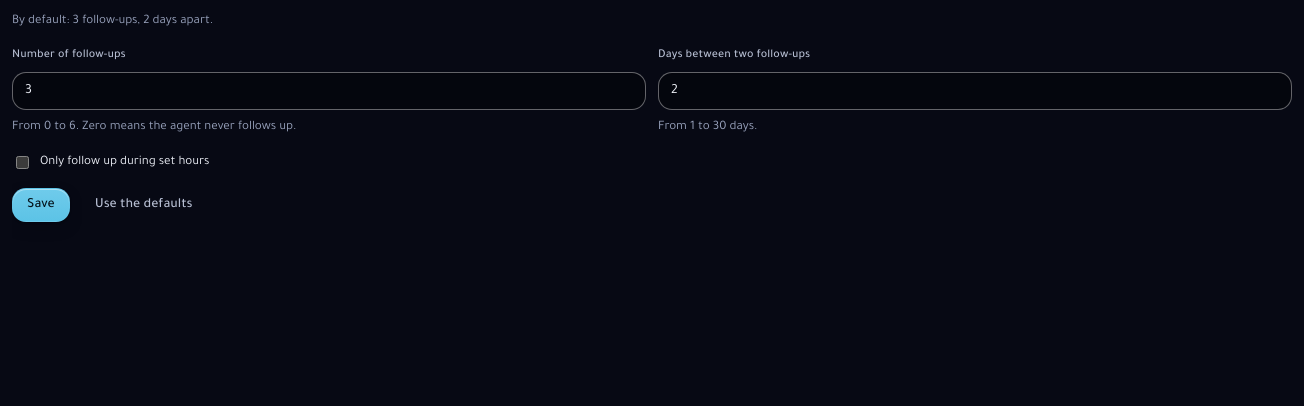
Test: follow-up settings › saves the number, the gap and the hours, with the version it was read on
Replace the text in the number field labelled "Number of follow-ups" with "5": (329, 91) [12,72,646,110]
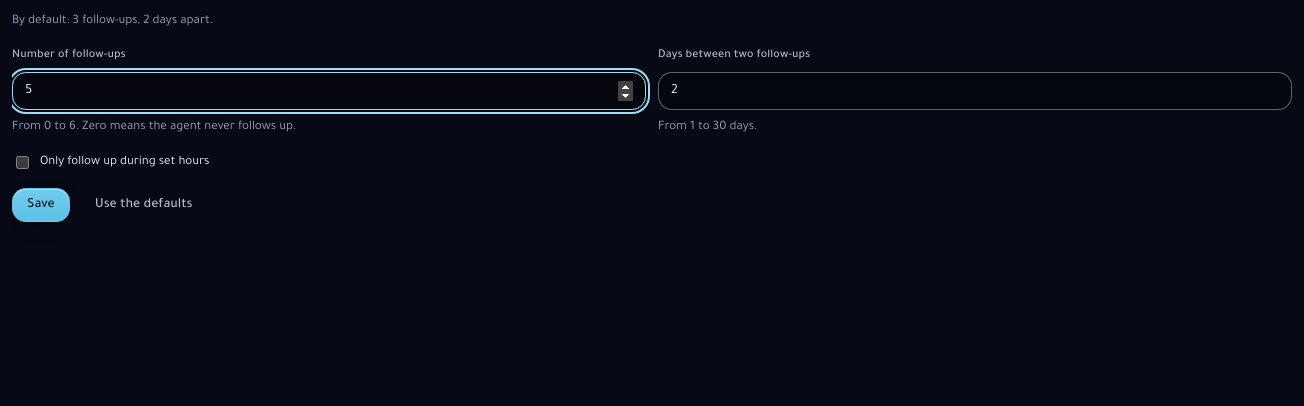
Replace the text in the number field labelled "Days between two follow-ups" with "3": (975, 91) [658,72,1292,110]
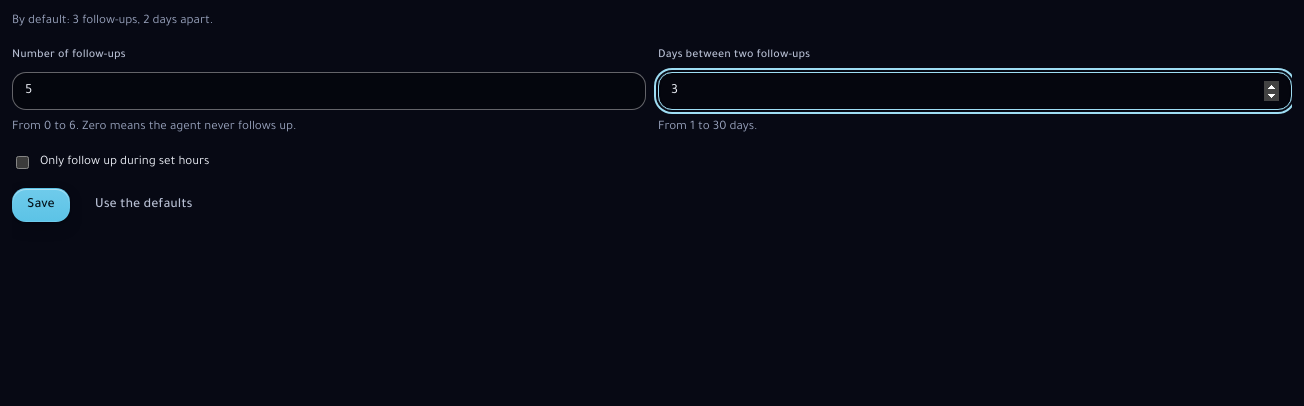
Click the checkbox labelled "Only follow up during set hours": (22, 162) [16,156,29,169]
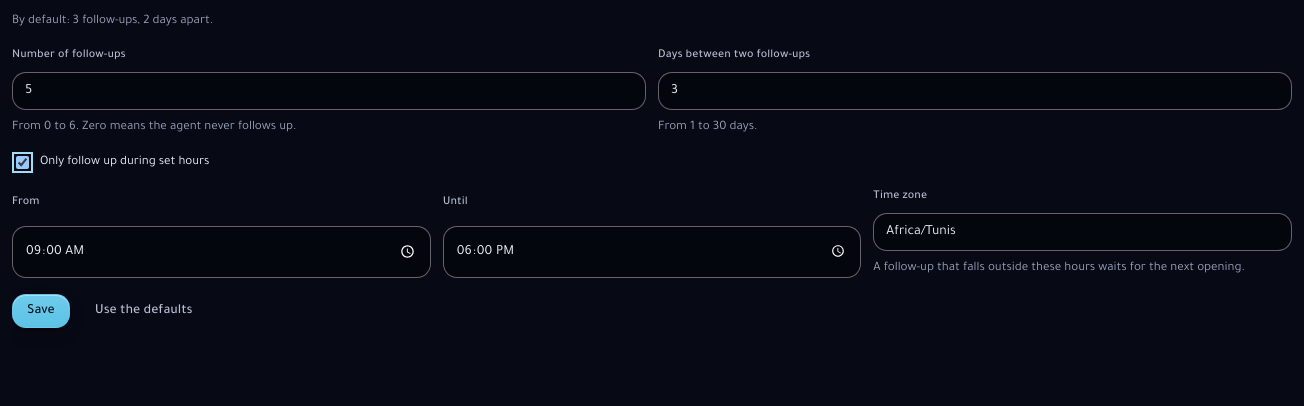
Clear the time field labelled "Until": (652, 252) [443,226,861,278]
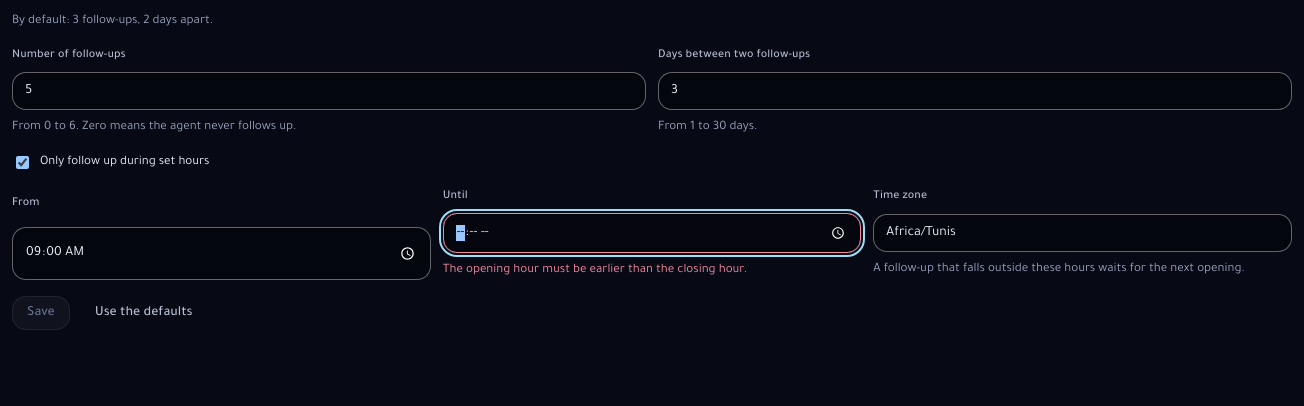
In the time field labelled "Until": (652, 233) [443,213,861,253], type "17:30"
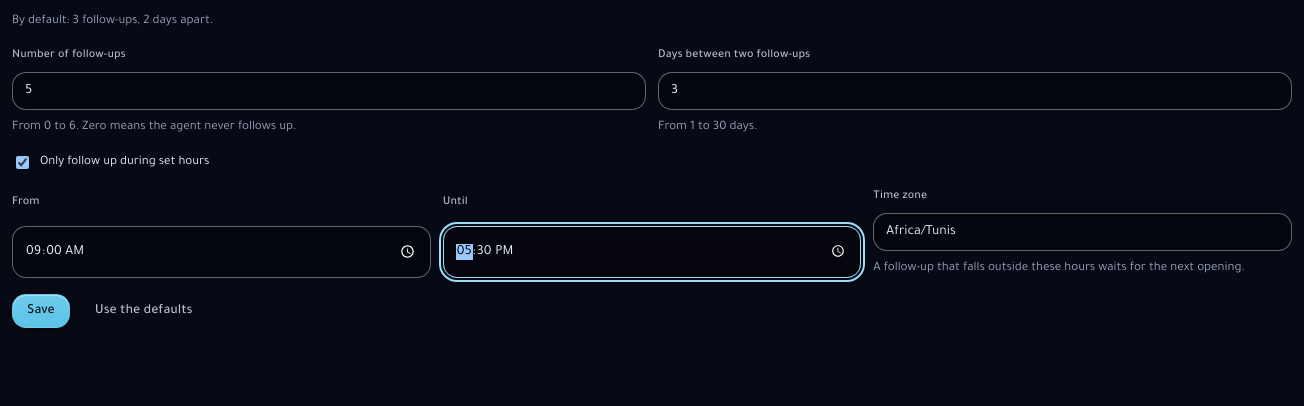
Click the button "Save": (41, 311) [12,294,70,328]
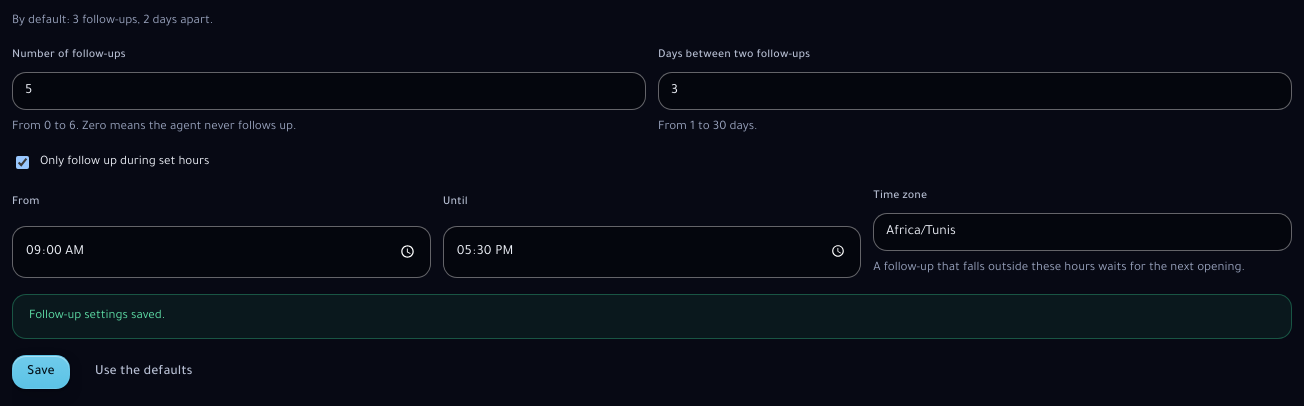
Check: the message "Follow-up settings saved." is shown, box [12,294,1292,339]
